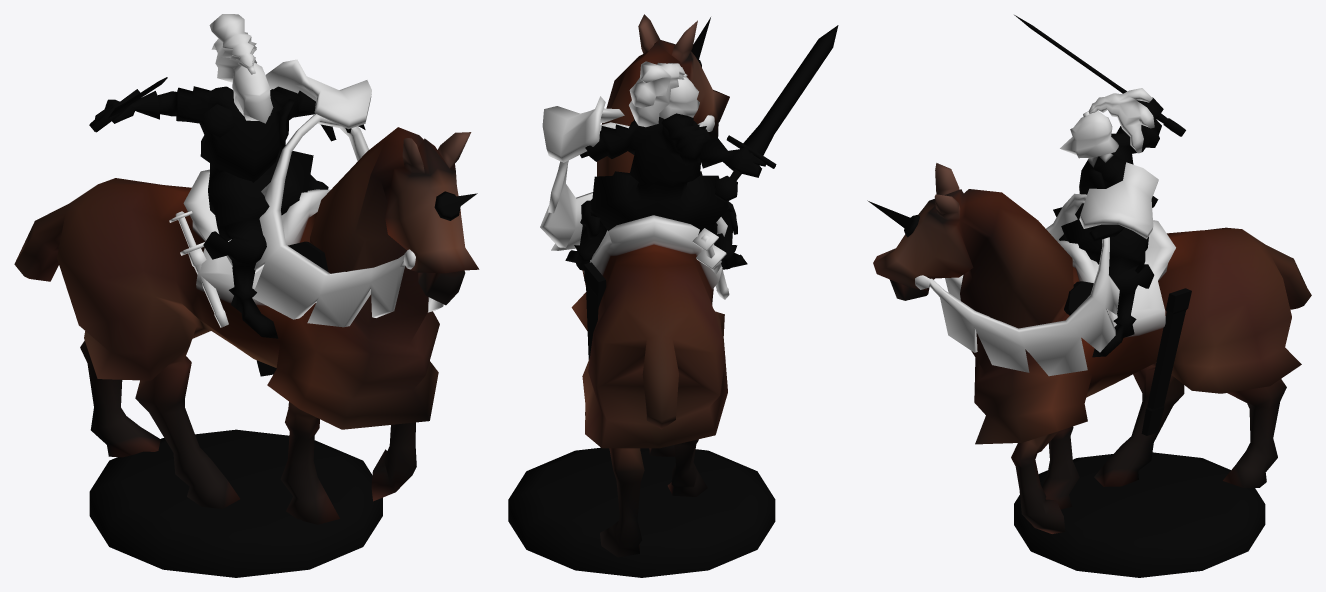
The model's file is enemy_warhorse_hit.fbx.
The picture shows the model from 3 angles, left to right: view 1: azimuth 30°, elevation 25°; view 2: azimuth 150°, elevation 25°; view 3: azimuth 270°, elevation 25°; orthographic projection. The views are drawn at different scales.
Visible parts, largest first — view 1: red_heavy_cavalry_lp.102; view 2: red_heavy_cavalry_lp.102; view 3: red_heavy_cavalry_lp.102.
Part boxes in pixels (left/top/right/bottom): red_heavy_cavalry_lp.102: left=14, top=14, right=479, bottom=577; red_heavy_cavalry_lp.102: left=508, top=14, right=838, bottom=577; red_heavy_cavalry_lp.102: left=867, top=15, right=1311, bottom=577.
Size of the model in its own units: 1.96 by 3.52 by 3.15.
